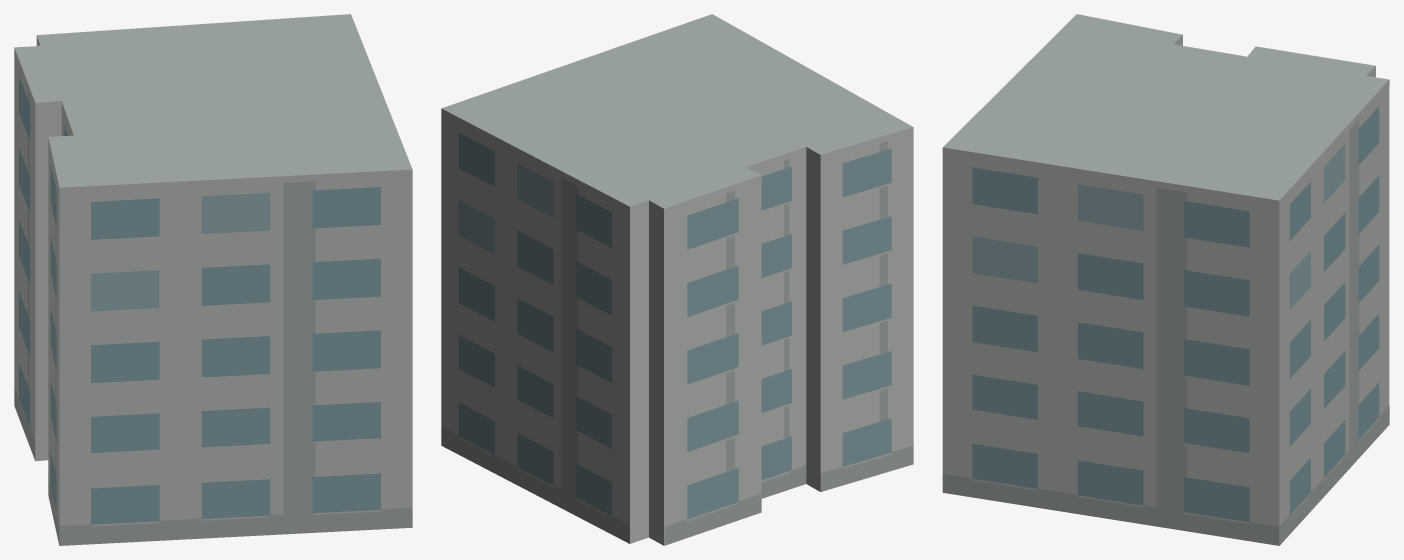
Rendered from survey-upis-33028804.glb.
3 views of the same model, side by side, from view 1: azimuth 30°, elevation 25°; view 2: azimuth 150°, elevation 25°; view 3: azimuth 270°, elevation 25° (orthographic). The views are drawn at different scales.
Visible parts, largest first — view 1: survey-upis-33028804.tmp; view 2: survey-upis-33028804.tmp; view 3: survey-upis-33028804.tmp.
Part boxes in pixels (x1,y1,x2,y2): survey-upis-33028804.tmp: (14,14,412,545); survey-upis-33028804.tmp: (441,14,913,545); survey-upis-33028804.tmp: (942,14,1389,545).
Size of the model in its own units: 15.19 by 13.1 by 15.37.
